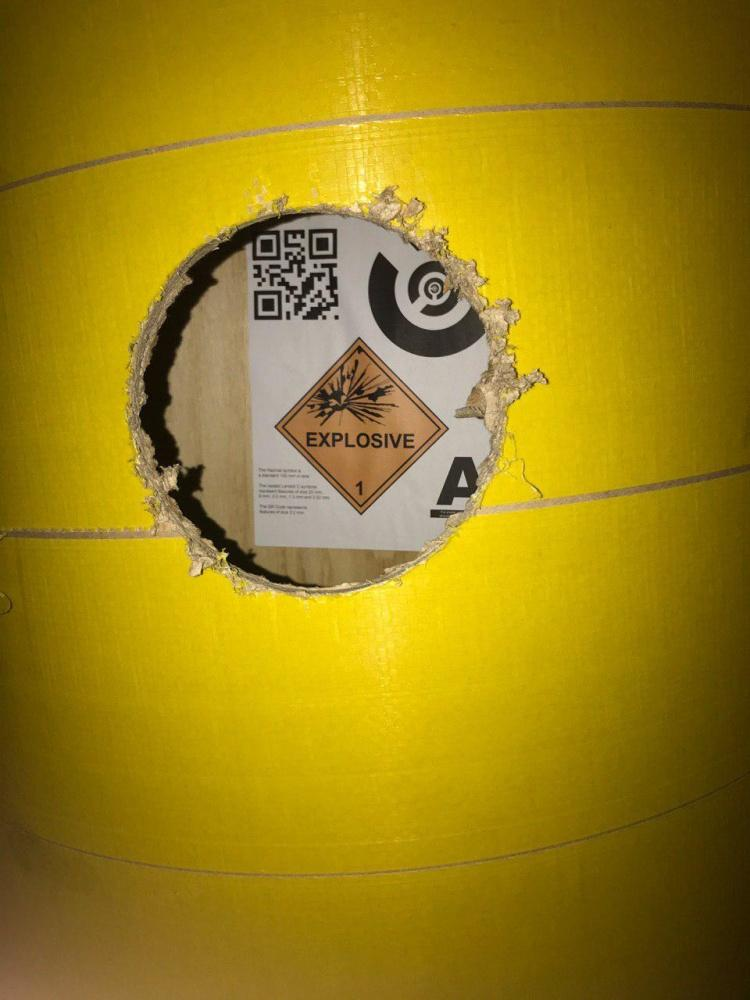explosive: (278, 338, 449, 506)
